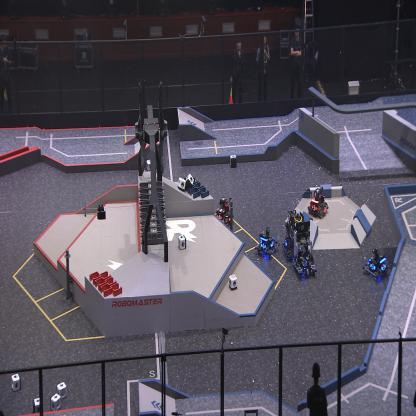car: (291, 222, 317, 279), (281, 209, 305, 258), (362, 247, 388, 280), (253, 227, 280, 258), (307, 186, 329, 219), (214, 196, 234, 227)
